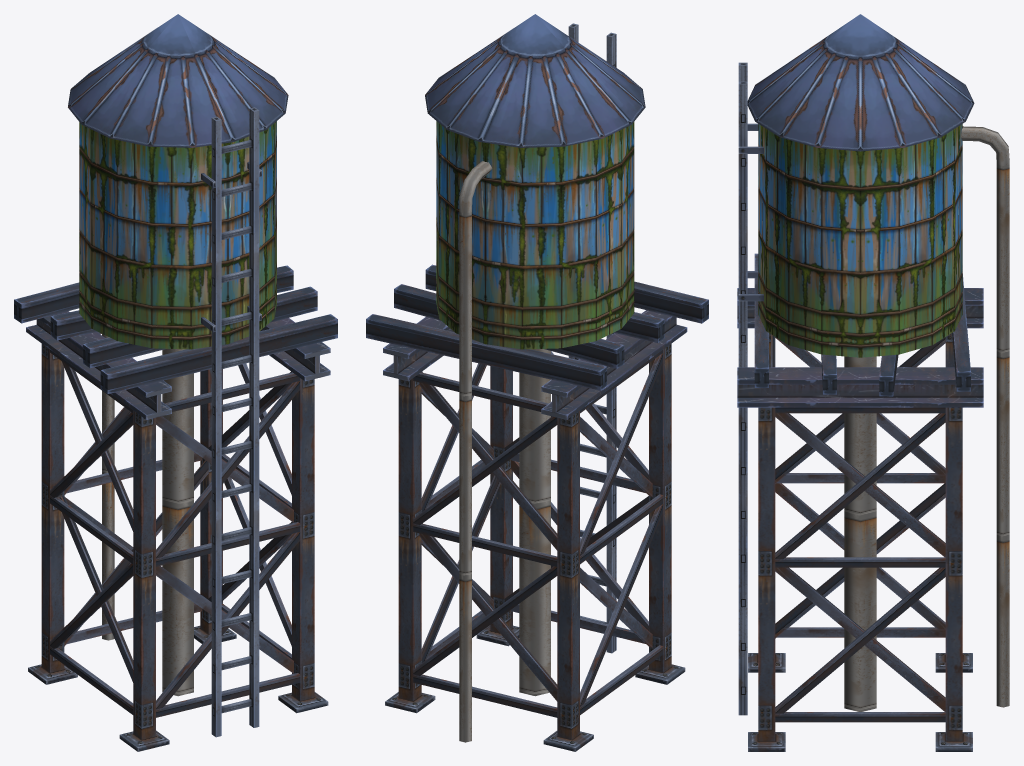
The model's file is waterTank01_B.fbx.
The picture shows the model from 3 angles, left to right: view 1: azimuth 30°, elevation 25°; view 2: azimuth 150°, elevation 25°; view 3: azimuth 270°, elevation 25°; orthographic projection. The views are drawn at different scales.
Visible parts, largest first — view 1: waterTank01_B; view 2: waterTank01_B; view 3: waterTank01_B.
Part boxes in pixels (x1,y1,x2,y2): waterTank01_B: (14, 14, 337, 751); waterTank01_B: (366, 14, 708, 751); waterTank01_B: (737, 14, 1009, 751).
Size of the model in its own units: 343 by 894 by 320.
